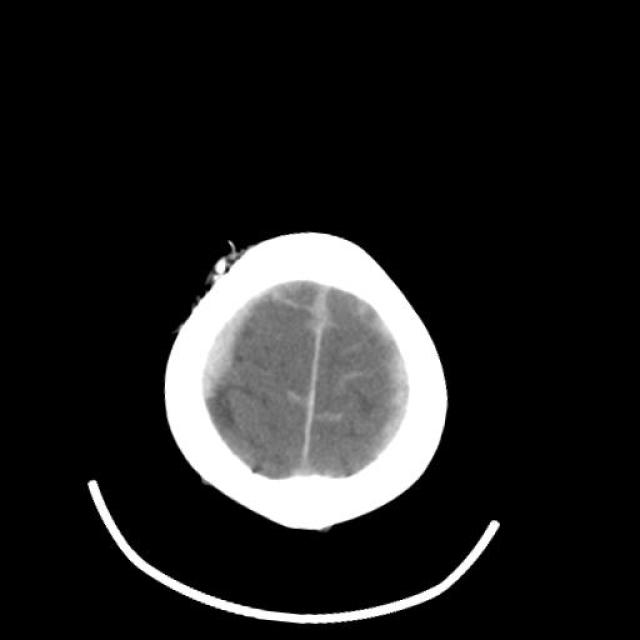Subarachnoid: (260, 291, 315, 334), (271, 379, 311, 427), (304, 404, 354, 440)
Subdural: (357, 313, 472, 497), (173, 277, 292, 428)
